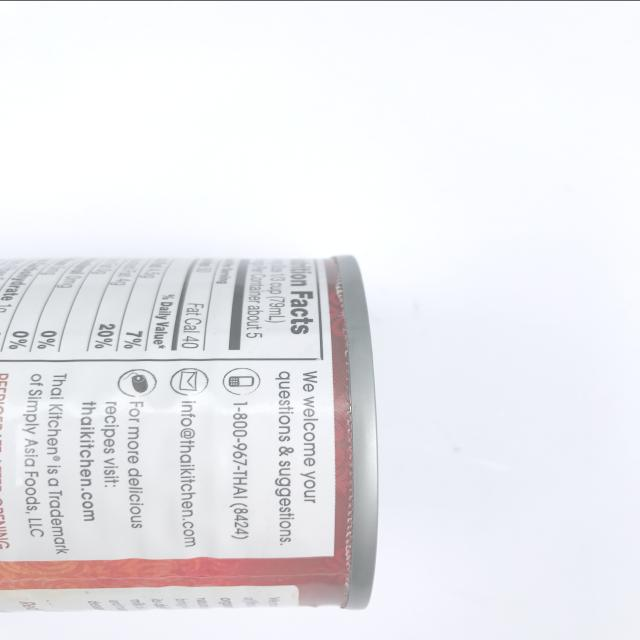Metal: (1, 254, 380, 611)
